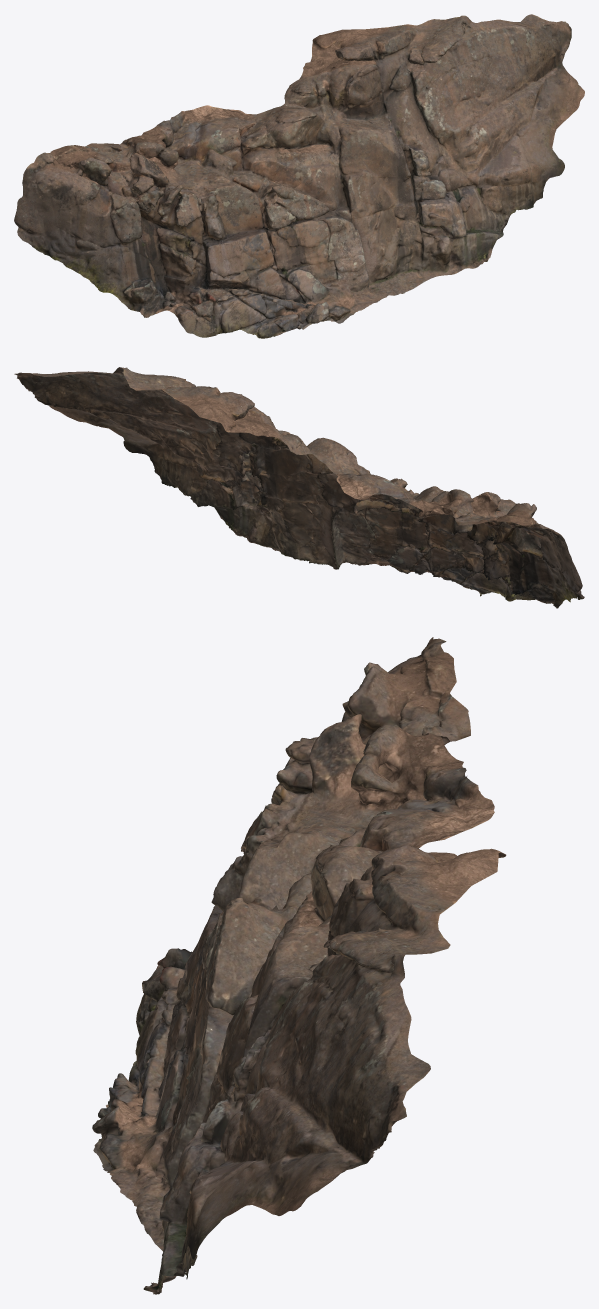
Rendered from namaqualand_cliff_02.glb.
3 views of the same model, one above another, from view 1: azimuth 30°, elevation 25°; view 2: azimuth 150°, elevation 25°; view 3: azimuth 270°, elevation 25° (orthographic). The views are drawn at different scales.
Visible parts, largest first — view 1: drone_rock_02_LOD0; view 2: drone_rock_02_LOD0; view 3: drone_rock_02_LOD0.
Boxes of the visible parts, bbox=[...] form: drone_rock_02_LOD0: bbox=[14, 14, 584, 338]; drone_rock_02_LOD0: bbox=[14, 367, 584, 608]; drone_rock_02_LOD0: bbox=[92, 637, 506, 1294].
Bounding box in the file's own units: 20.23 × 7.18 × 6.59.
Materials: 1 (1 with a texture image).
